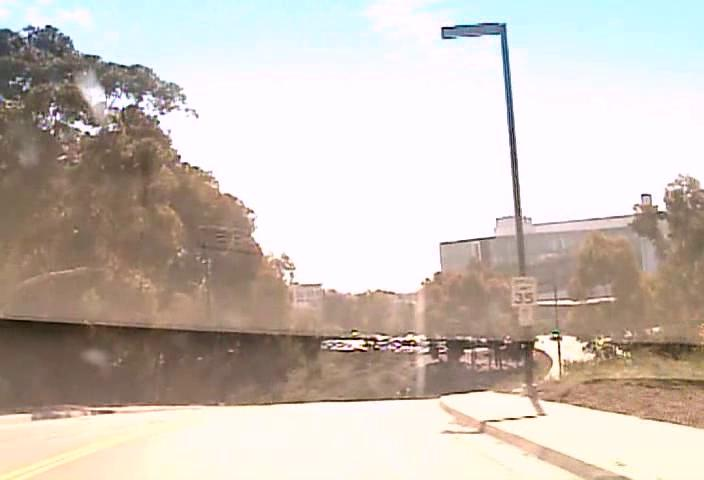speedLimit35: (510, 275, 537, 308)
